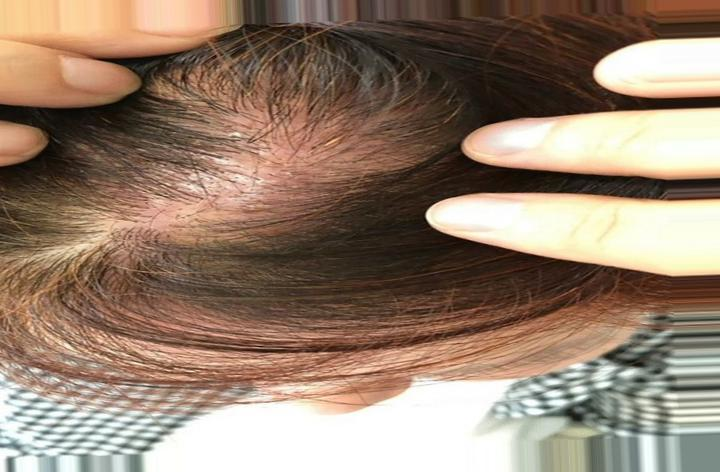Contact Dermatitis: (151, 66, 408, 270)
